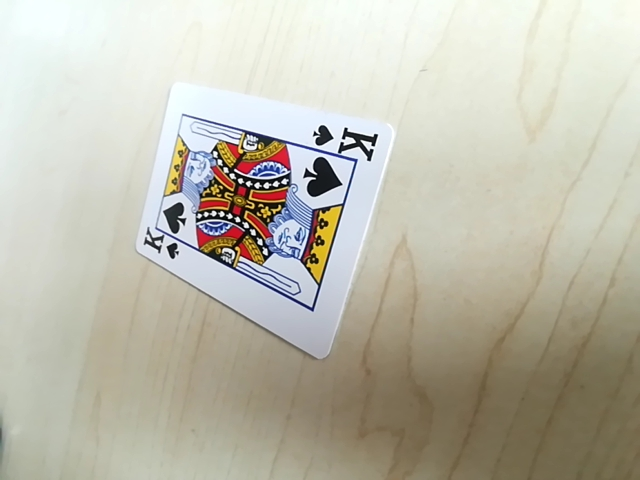ht k: (308, 123, 381, 156), (138, 224, 183, 260)
